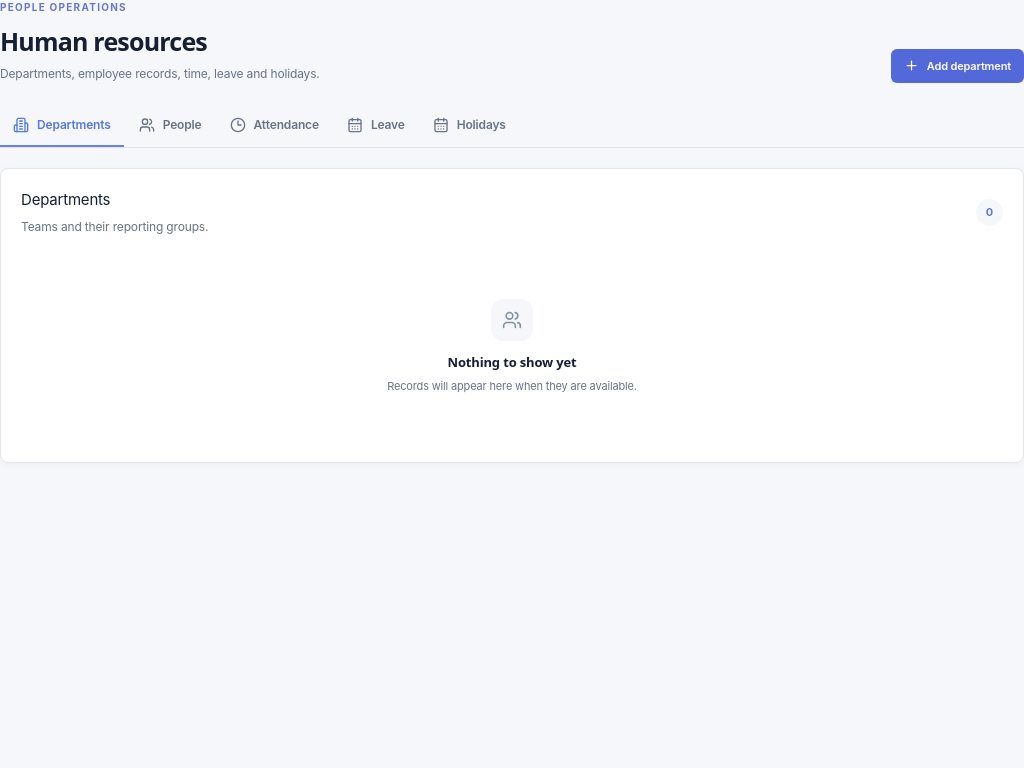
HR page › renders backend leave balance and requested-day fields
Click the button "Leave" at (376,126), box 334,105 -> 418,147
(page scrolled)
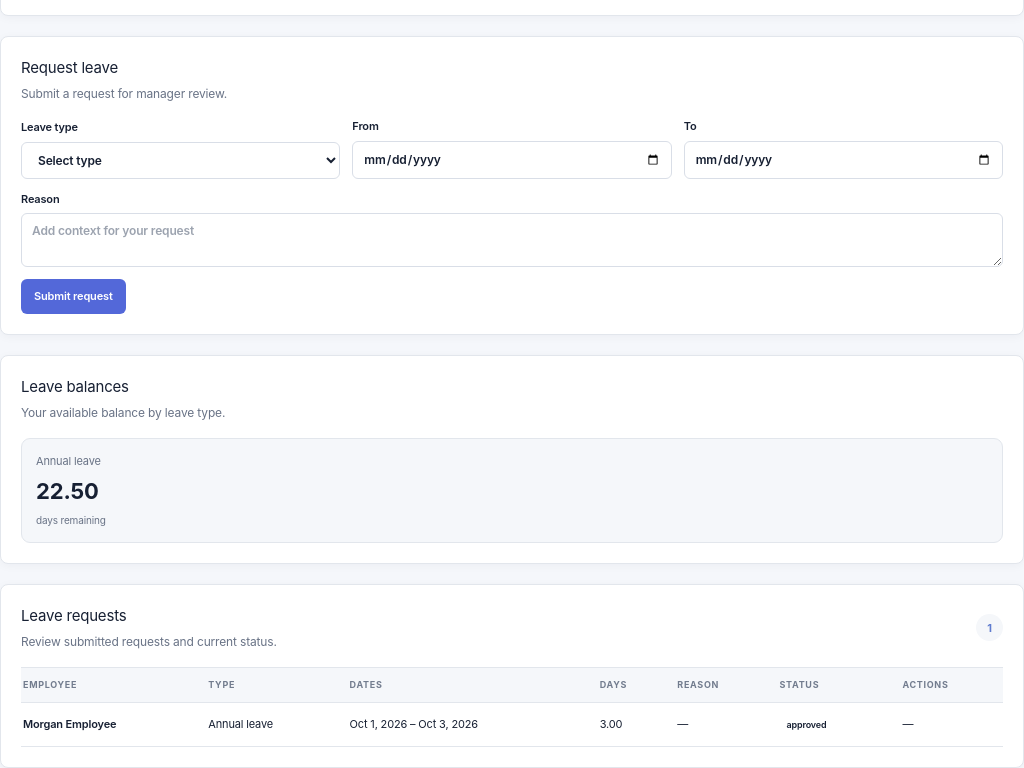
Result: the text "22.50" is shown at 36,478 -> 99,504
Result: the text "3.00" is shown at 591,702 -> 668,747
